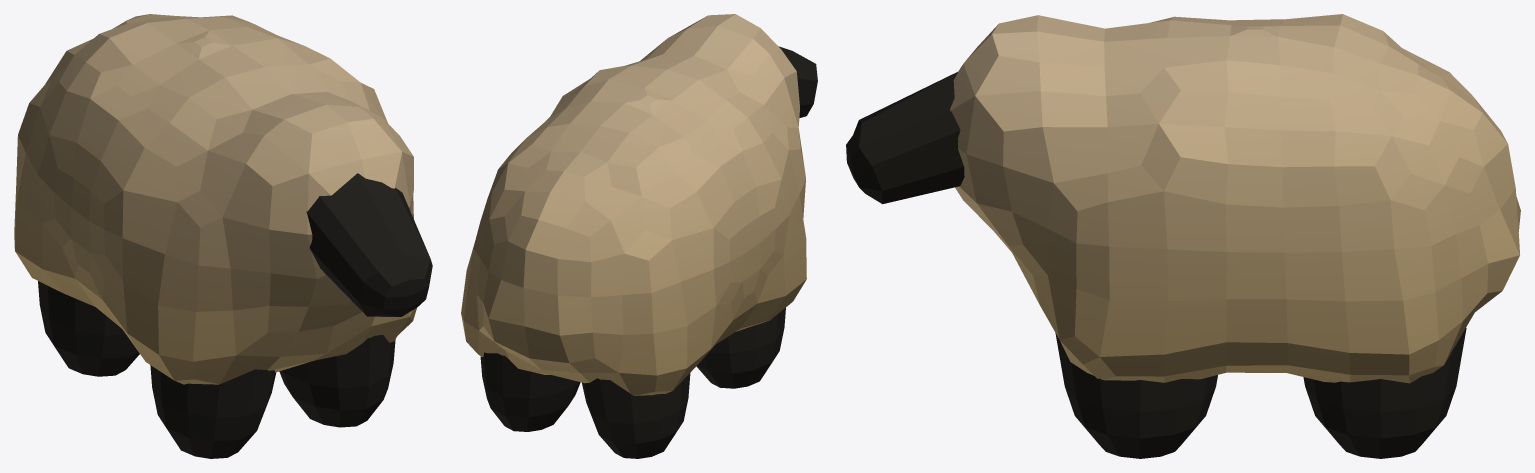
Rendered from CharacterSheep.fbx.
The picture shows the model from 3 angles, left to right: view 1: azimuth 30°, elevation 25°; view 2: azimuth 150°, elevation 25°; view 3: azimuth 270°, elevation 25°; orthographic projection. The views are drawn at different scales.
Visible parts, largest first — view 1: Prey; view 2: Prey; view 3: Prey.
Part boxes in pixels (left/top/right/bottom): Prey: left=14, top=14, right=432, bottom=458; Prey: left=461, top=14, right=817, bottom=458; Prey: left=846, top=14, right=1520, bottom=458.
Size of the model in its own units: 100 by 125 by 200.
